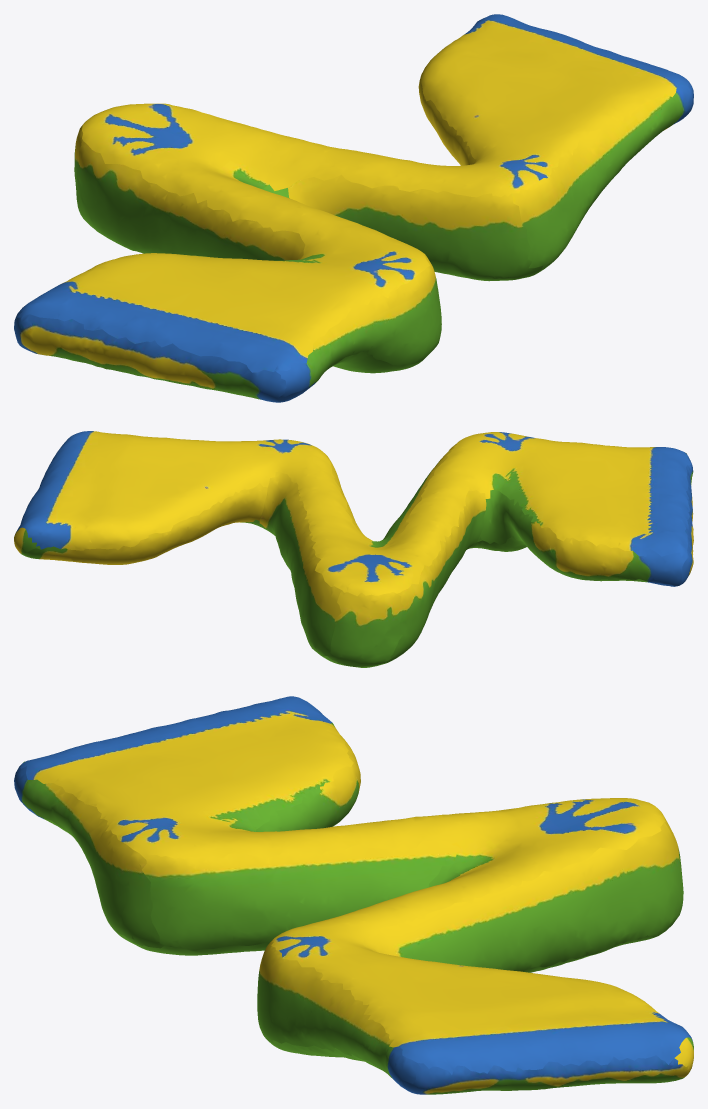
The model's file is zigzag.glb.
3 views of the same model, one above another, from view 1: azimuth 30°, elevation 25°; view 2: azimuth 150°, elevation 25°; view 3: azimuth 270°, elevation 25° (orthographic). The views are drawn at different scales.
Parts seen in each view (by area): view 1: geometry_0; view 2: geometry_0; view 3: geometry_0.
Part boxes in pixels (bbox=[...]): geometry_0: bbox=[14, 14, 693, 402]; geometry_0: bbox=[14, 431, 693, 667]; geometry_0: bbox=[14, 696, 693, 1094].
Bounding box in the file's own units: 1.01 × 0.1388 × 0.7552.
Materials: 1 (1 with a texture image).
